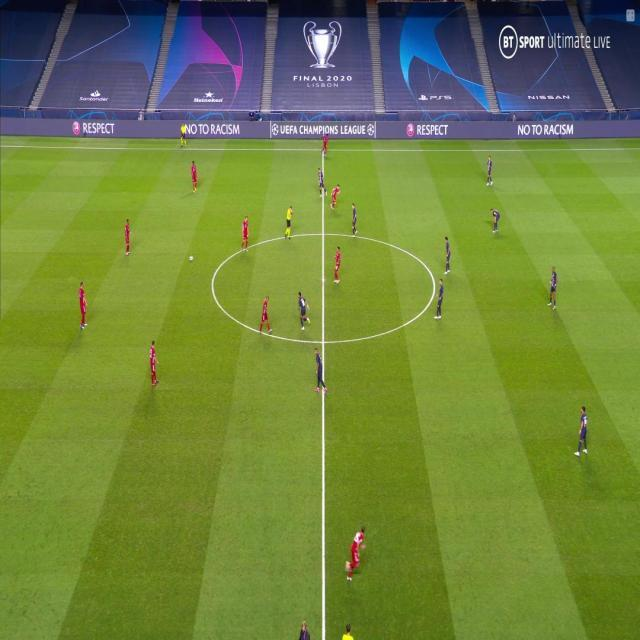ball: (189, 254, 194, 263)
player: (343, 525, 368, 583), (574, 405, 590, 461), (311, 347, 328, 398), (258, 295, 273, 337), (77, 281, 89, 332), (148, 339, 160, 388), (297, 290, 311, 331), (547, 266, 559, 310), (434, 277, 446, 319), (442, 236, 452, 275), (332, 245, 342, 284), (328, 181, 341, 211), (240, 216, 250, 254), (320, 129, 332, 160), (123, 218, 132, 257), (489, 206, 501, 233), (190, 159, 199, 195), (485, 153, 494, 188), (317, 168, 327, 197), (350, 202, 358, 237)
referee: (284, 205, 294, 242), (180, 121, 189, 149)
